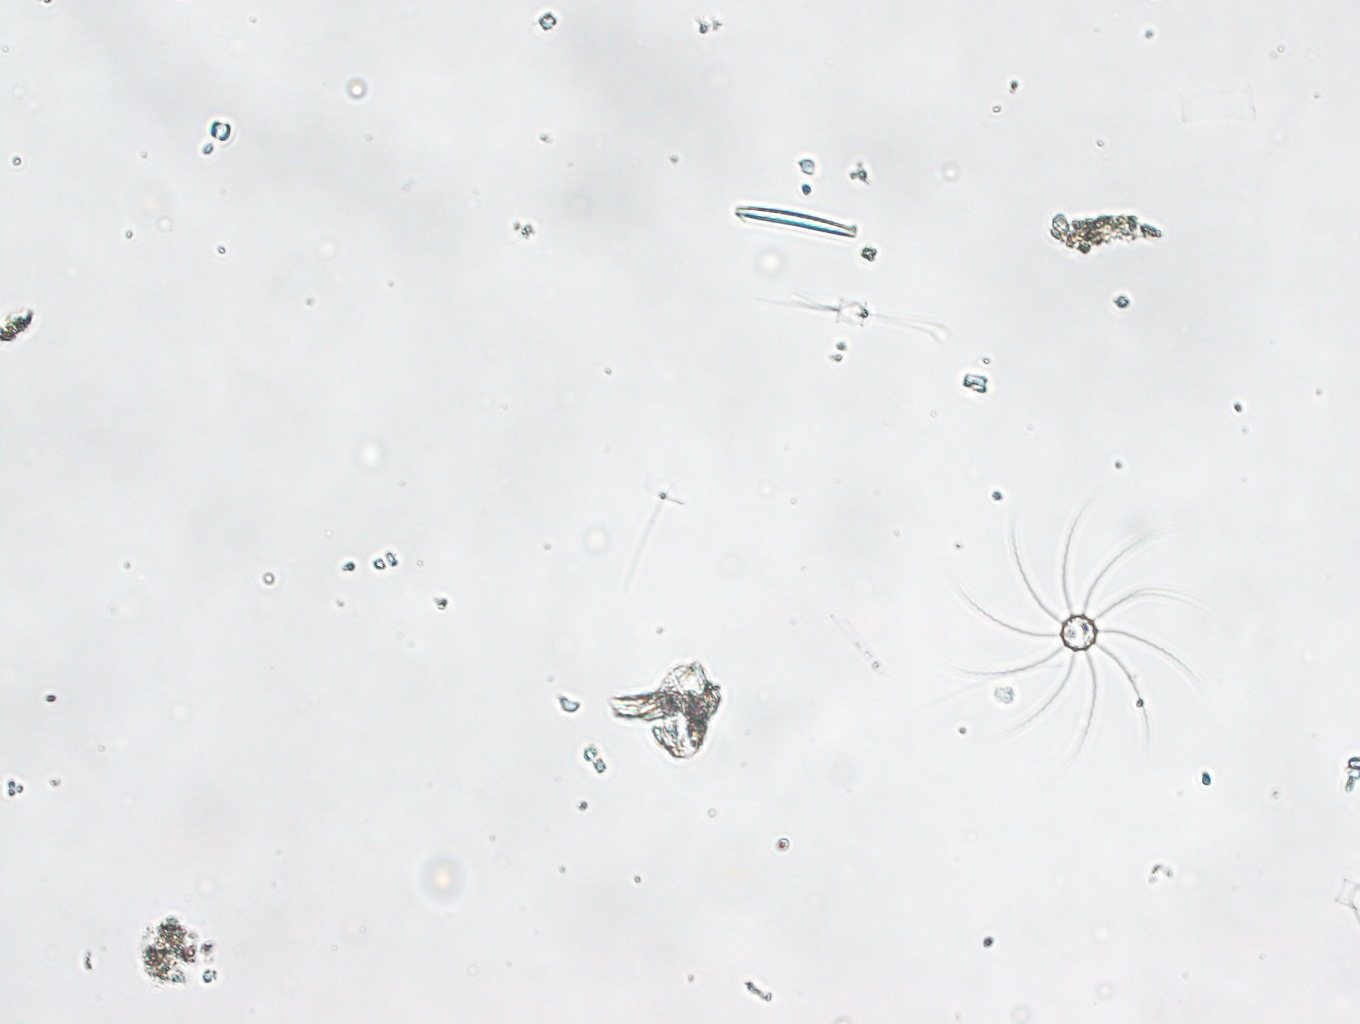bacteriastrum: (953, 503, 1196, 758)
